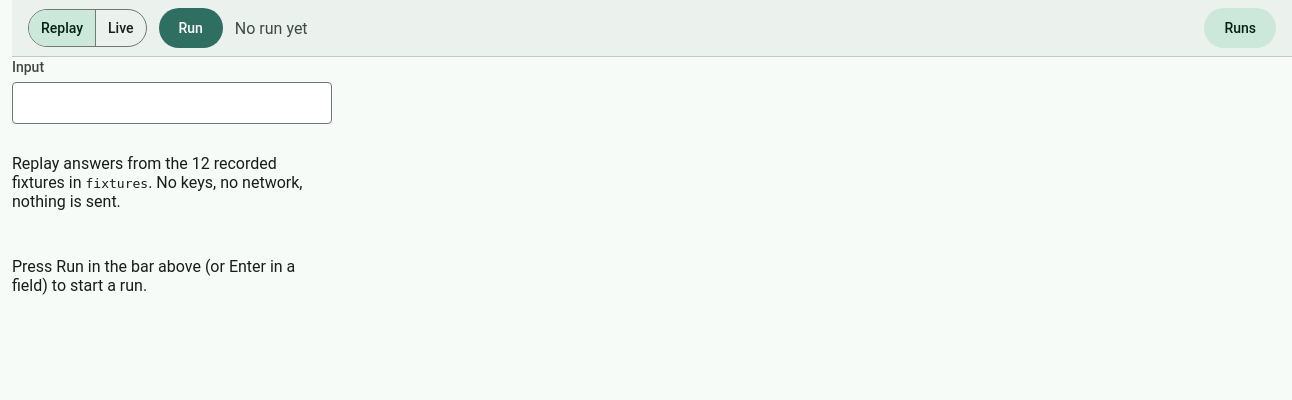
Test case: RunPanel modes › starts on Replay when fixtures exist and runs without a confirmation
Click the button "Run" at point(191, 28), box [158,8,223,48]
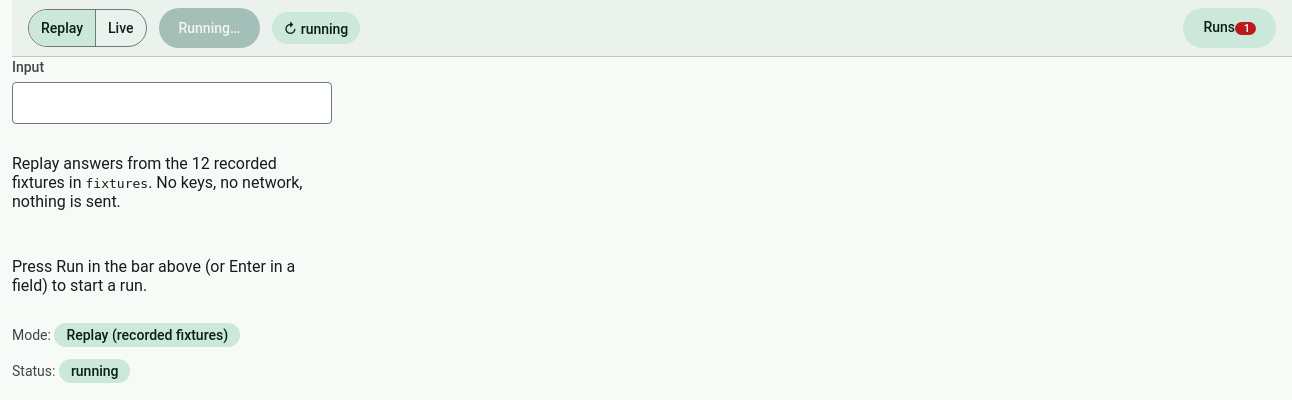
Now the element with test id "run-mode" shows "Replay (recorded fixtures)", box [66,327,228,343]
